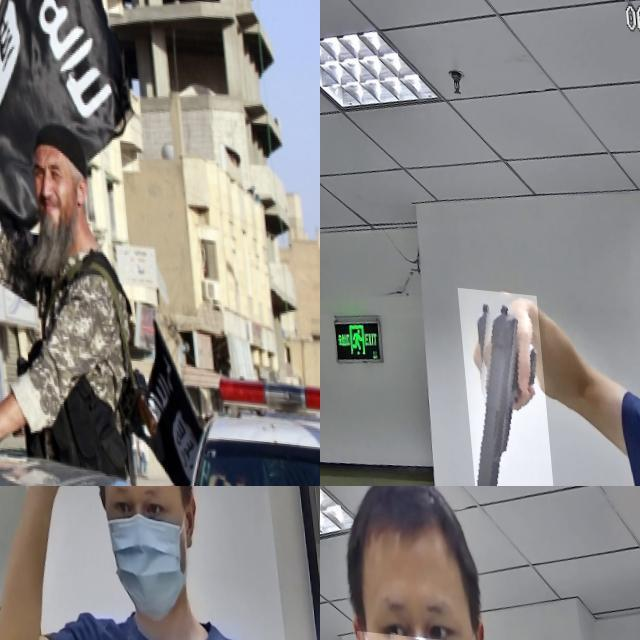gun-knife-thesis - v11 Yolov5 augmented: (0, 20, 68, 360), (451, 282, 548, 486), (0, 486, 89, 579)
